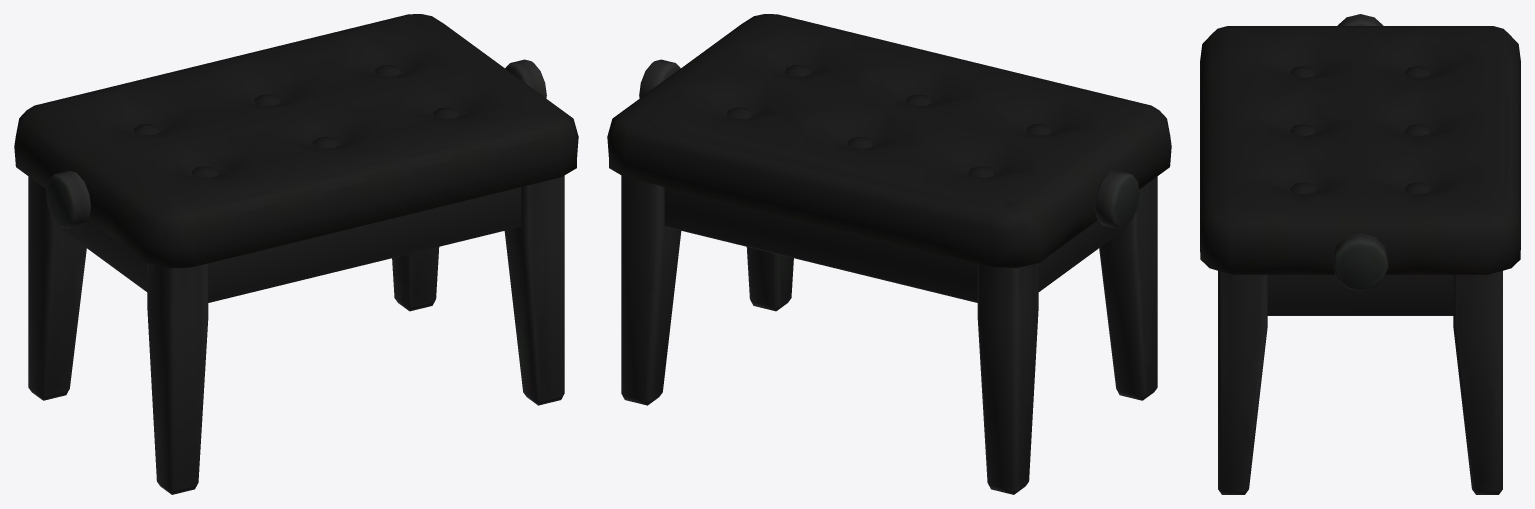
The picture shows the model from 3 angles, left to right: view 1: azimuth 30°, elevation 25°; view 2: azimuth 150°, elevation 25°; view 3: azimuth 270°, elevation 25°; orthographic projection.
Size of the model in its own units: 8.61 by 4.98 by 5.1.
1 material, 1 textured.
